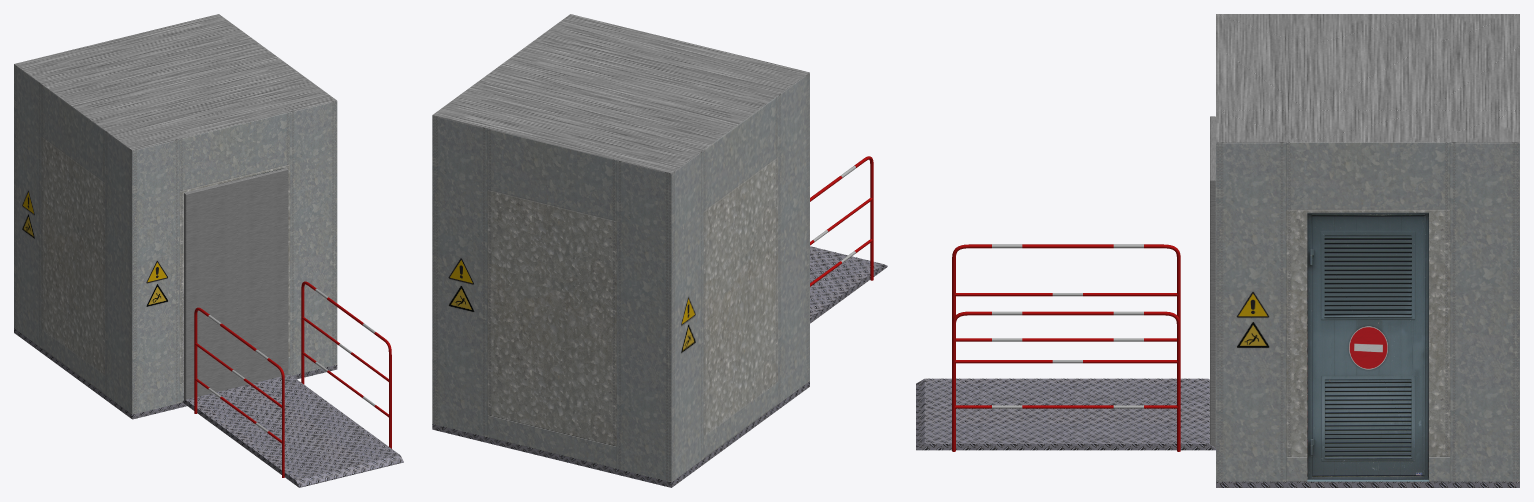
Rendered from cabine.FBX.
3 views of the same model, side by side, from view 1: azimuth 30°, elevation 25°; view 2: azimuth 150°, elevation 25°; view 3: azimuth 270°, elevation 25° (orthographic). The views are drawn at different scales.
Parts seen in each view (by area): view 1: cabine, Boîte001, porte_G, porte_D, Ligne001, Ligne002, Objet001; view 2: cabine, Boîte001, Objet001, Ligne001; view 3: cabine, porte_fixe, Boîte001, Ligne002, Ligne001, Objet001, porte_G.
Boxes of the visible parts, left/top/right/bottom form: cabine: left=14, top=14, right=337, bottom=414; Boîte001: left=182, top=374, right=403, bottom=487; porte_G: left=235, top=168, right=288, bottom=387; porte_D: left=184, top=180, right=237, bottom=400; Ligne001: left=194, top=307, right=284, bottom=477; Ligne002: left=301, top=281, right=391, bottom=448; Objet001: left=14, top=289, right=337, bottom=419; cabine: left=432, top=14, right=809, bottom=482; Boîte001: left=810, top=246, right=887, bottom=323; Objet001: left=432, top=381, right=809, bottom=487; Ligne001: left=810, top=156, right=873, bottom=286; cabine: left=1216, top=14, right=1519, bottom=481; porte_fixe: left=1307, top=212, right=1428, bottom=481; Boîte001: left=916, top=378, right=1215, bottom=450; Ligne002: left=952, top=311, right=1180, bottom=451; Ligne001: left=952, top=244, right=1180, bottom=341; Objet001: left=1216, top=481, right=1519, bottom=487; porte_G: left=1210, top=147, right=1215, bottom=447.
Size of the model in its own units: 2 by 2.51 by 3.98.
